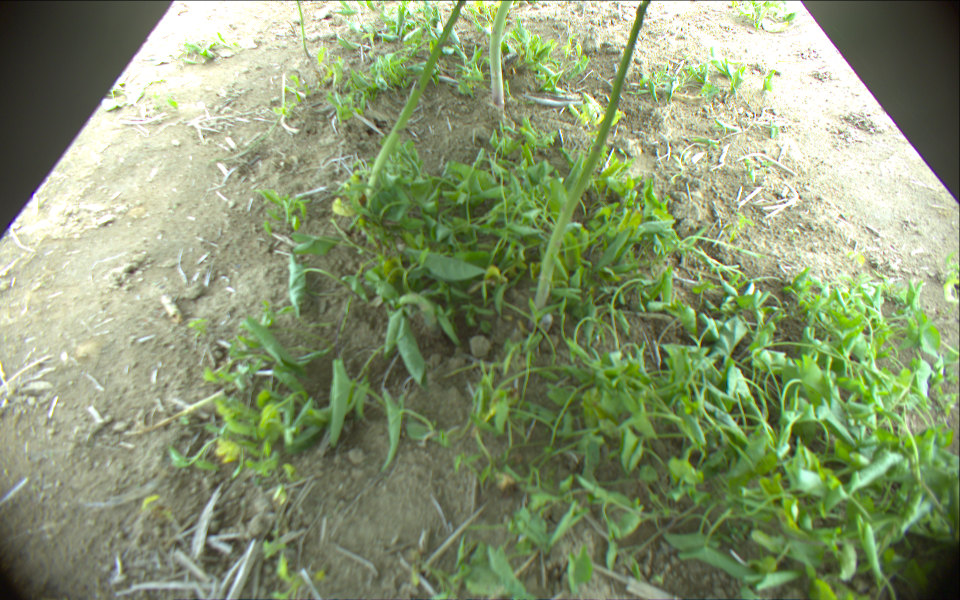aspa: (530, 1, 653, 335), (365, 1, 467, 200), (489, 1, 517, 112), (294, 1, 311, 56)
